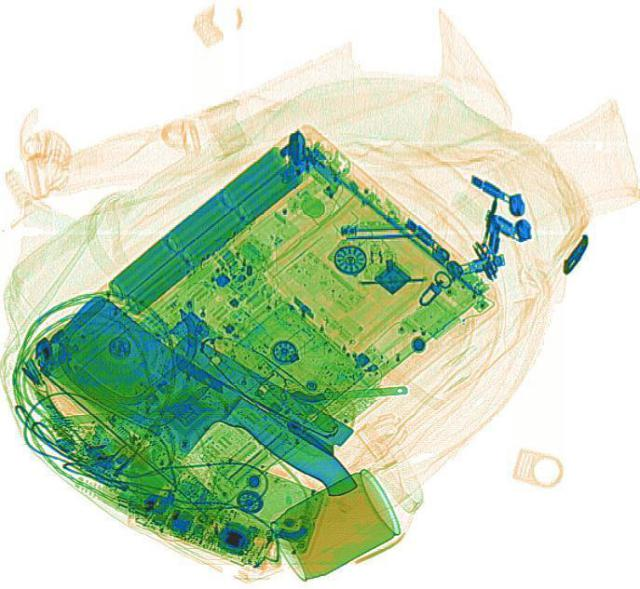Knife: (33, 291, 363, 542)
